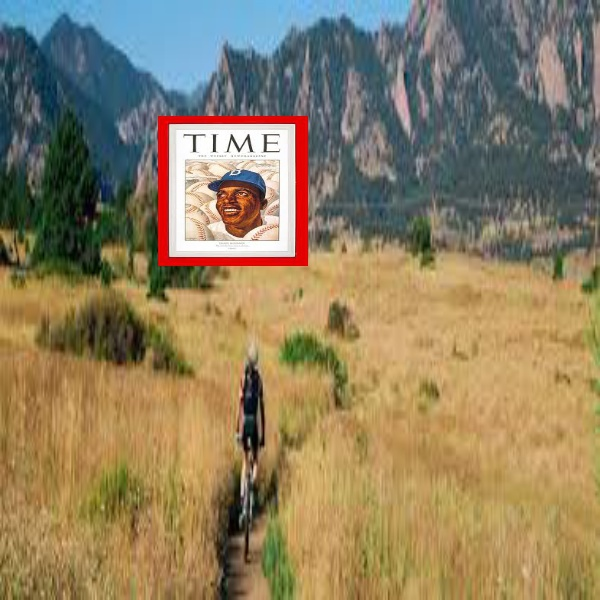time_cover: (156, 110, 305, 264)
